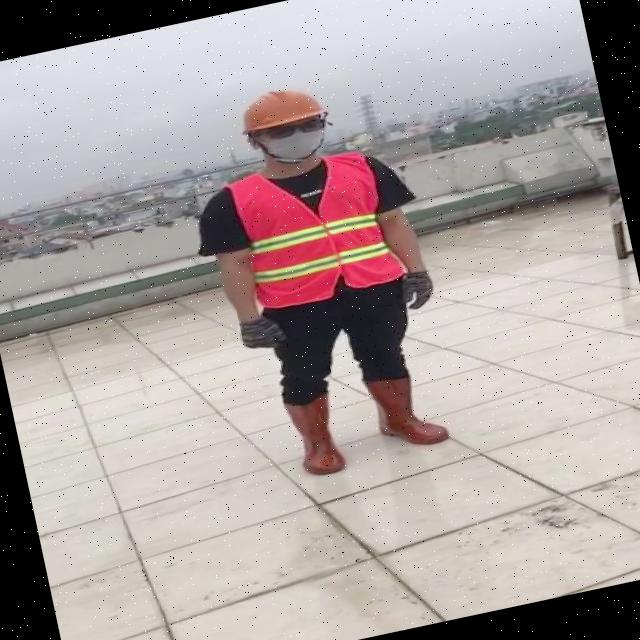boots: (360, 366, 458, 456), (282, 387, 354, 482)
